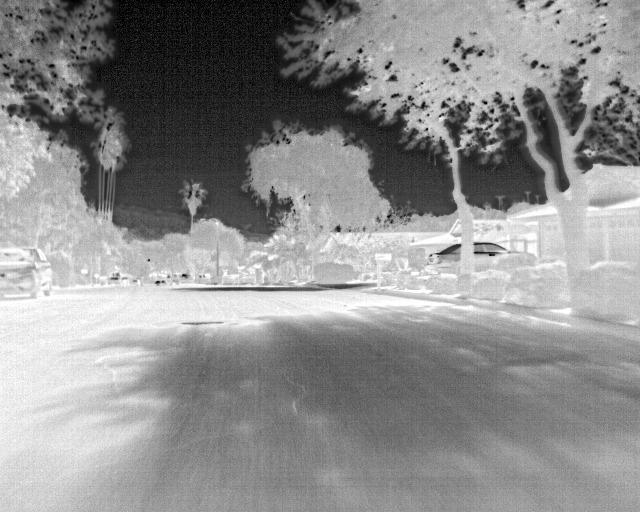car: (424, 232, 547, 289), (2, 231, 59, 310), (96, 264, 180, 294)
